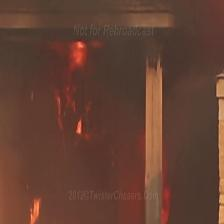fire: (47, 41, 102, 135), (29, 198, 40, 224)
